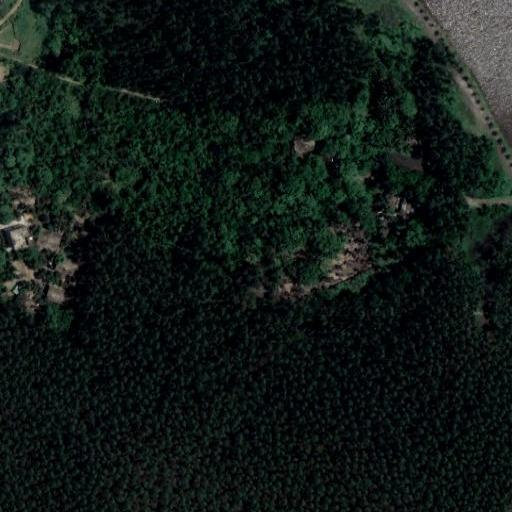building: (388, 152, 426, 172), (7, 224, 31, 252), (37, 230, 61, 252), (46, 285, 67, 306), (57, 260, 76, 274), (27, 235, 34, 246)
